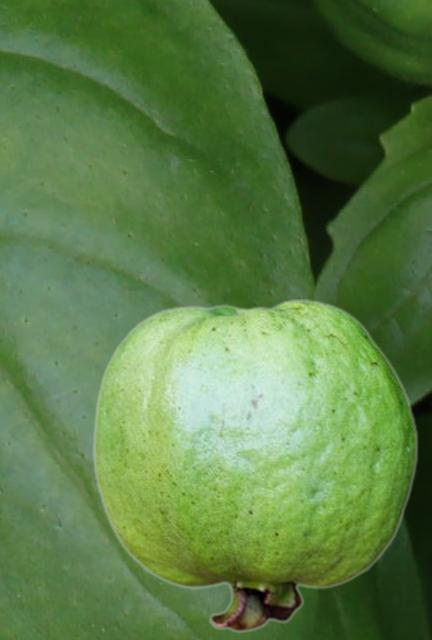guava: (92, 299, 418, 632)
